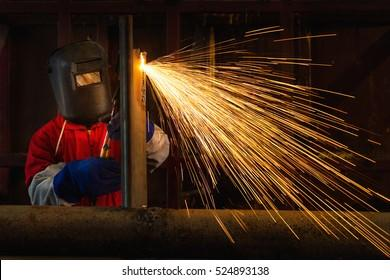gloves: (53, 157, 122, 202)
